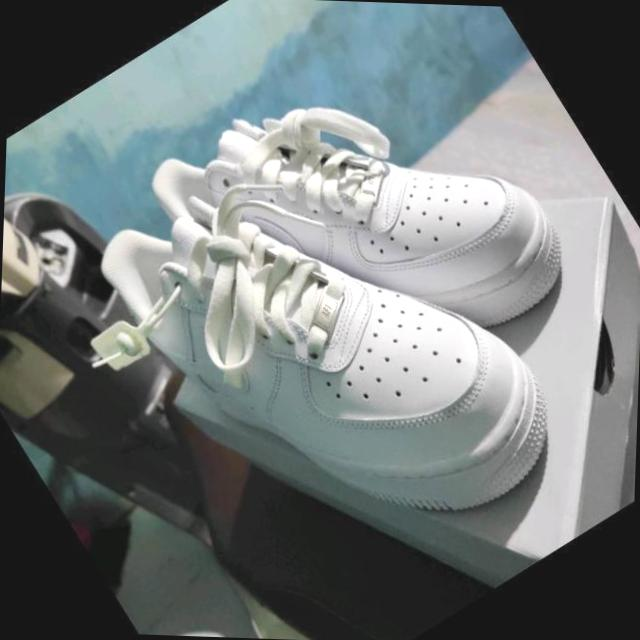nike_original_airforce: (63, 73, 596, 632), (127, 0, 610, 456)
